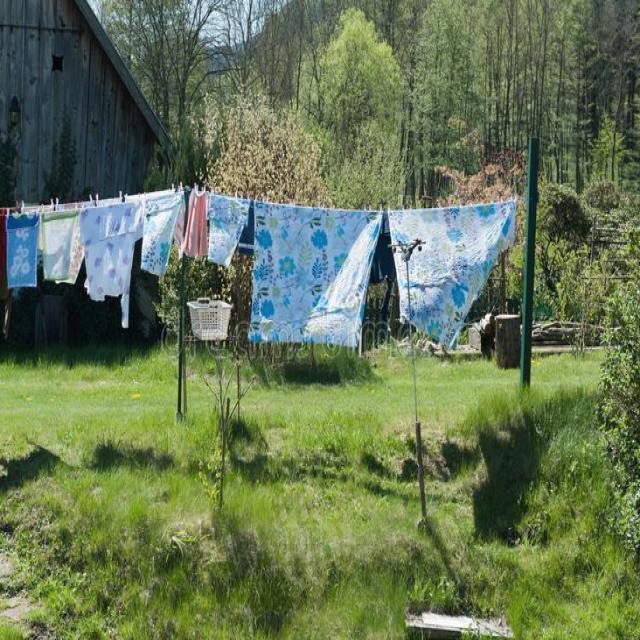clothes: (11, 221, 522, 332)
